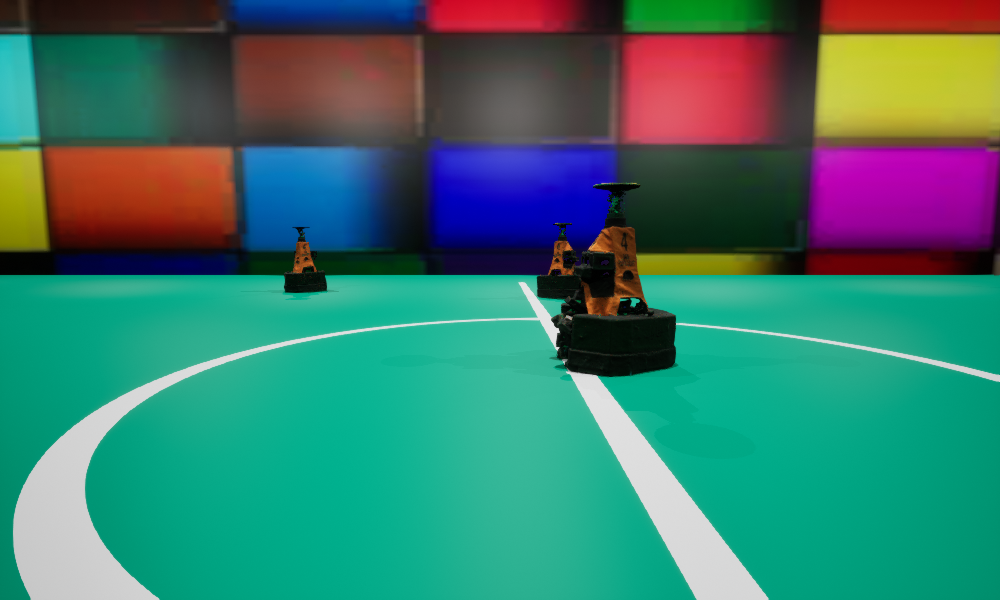0 orange robot TechUnited: (551, 183, 675, 375), (537, 223, 580, 298), (284, 227, 326, 292)
